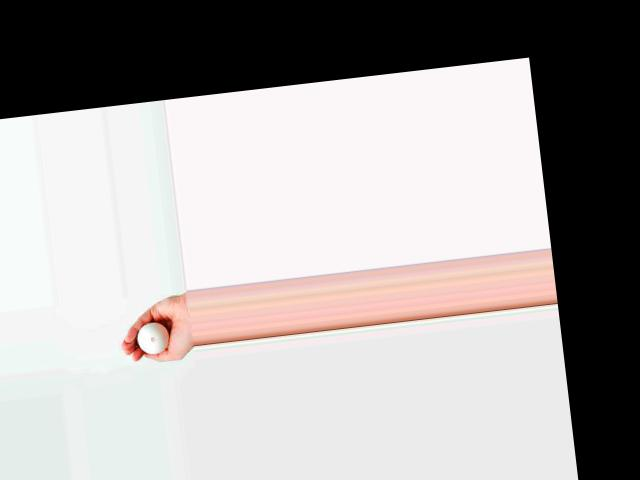egg: (135, 320, 170, 354)
